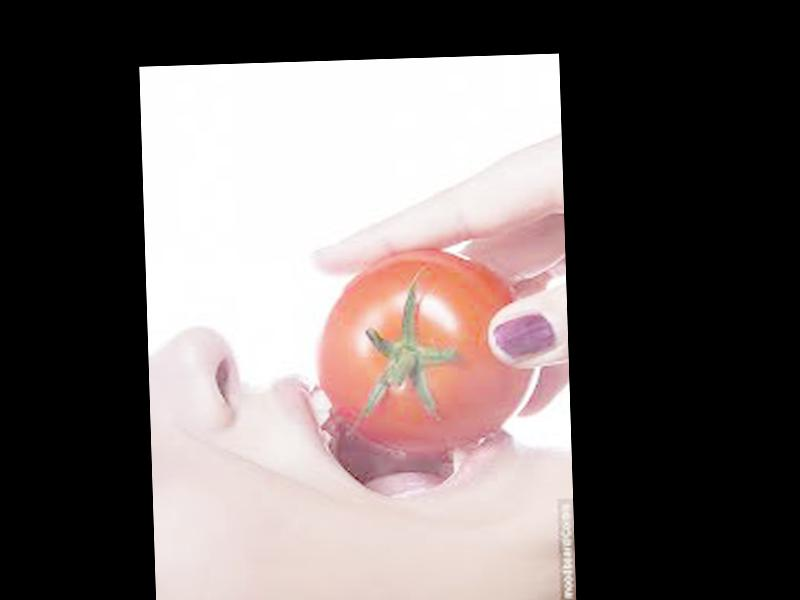Tomato: (313, 244, 542, 454)
